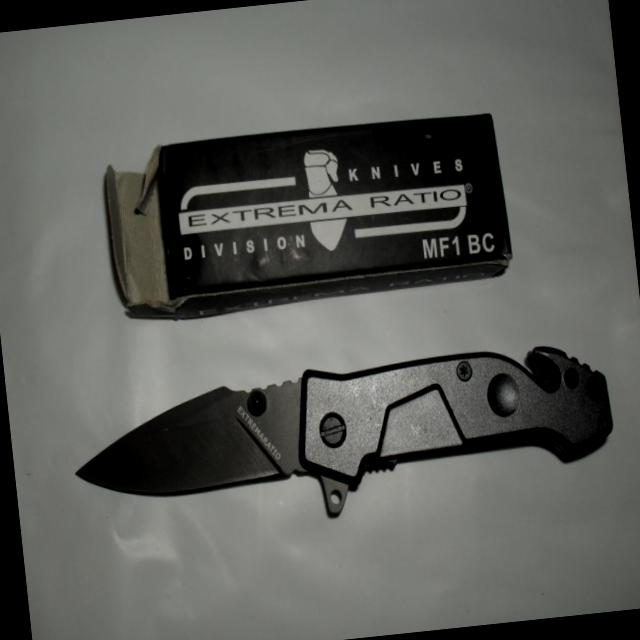knife: (56, 348, 424, 550)
